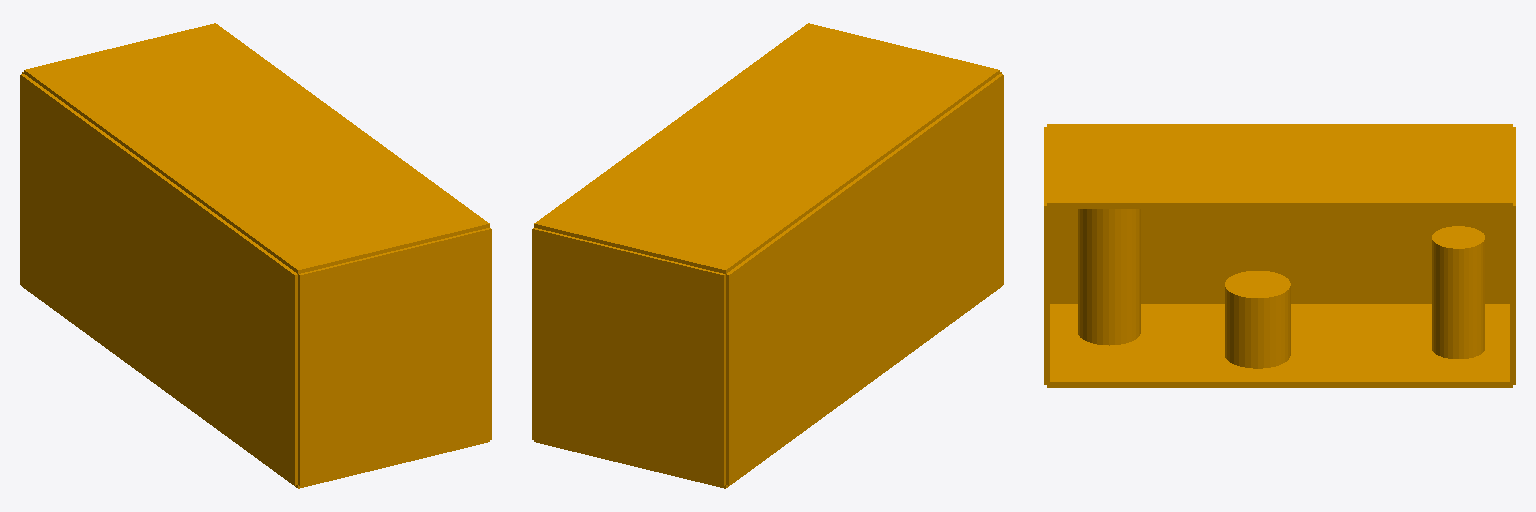
URDF robot description (syn_can_cabinet_2760):
<?xml version="1.0" ?>
<robot name="syn_can_cabinet_2760">
    <link concave="yes" name="base_link">
        <inertial>
            <origin rpy="0 0 0" xyz="0 0 0"/>
            <mass value="0.0"/>
            <inertia ixx="1e-08" ixy="0" ixz="0" iyy="1e-08" iyz="0" izz="1e-08"/>
        </inertial>
        <visual>
            <origin xyz="0 0 0" rpy="0 0 0" />
            <geometry>
                <mesh filename="syn_can_cabinet_2760.obj" scale="1.000000 1.000000 1.000000"/>
            </geometry>         
        </visual>

        <collision concave="yes">
            <origin xyz="0 0 0" rpy="0 0 0"/>
            <geometry>
                <mesh filename="syn_can_cabinet_2760.obj" scale="1.000000 1.000000 1.000000"/>
            </geometry>
        </collision>
    </link>
</robot>
    

--- Render facts (derived) ---
The picture shows the robot from 3 angles, left to right: view 1: azimuth 30°, elevation 25°; view 2: azimuth 150°, elevation 25°; view 3: azimuth 270°, elevation 25°; orthographic projection.
Model syn_can_cabinet_2760 with 1 links and 0 joints (none), rooted at base_link, posed every joint at zero.
Visible links, largest first — view 1: base_link; view 2: base_link; view 3: base_link.
Boxes of the visible links, x1,y1,x2,y2 form: base_link: (20,23,491,488); base_link: (532,23,1003,488); base_link: (1044,124,1515,387).
Size in the robot's own frame: 0.1817 by 0.4474 by 0.1943 metres.
Meshes: 1 distinct files referenced, 1 mesh visuals loaded (1 OBJ).
